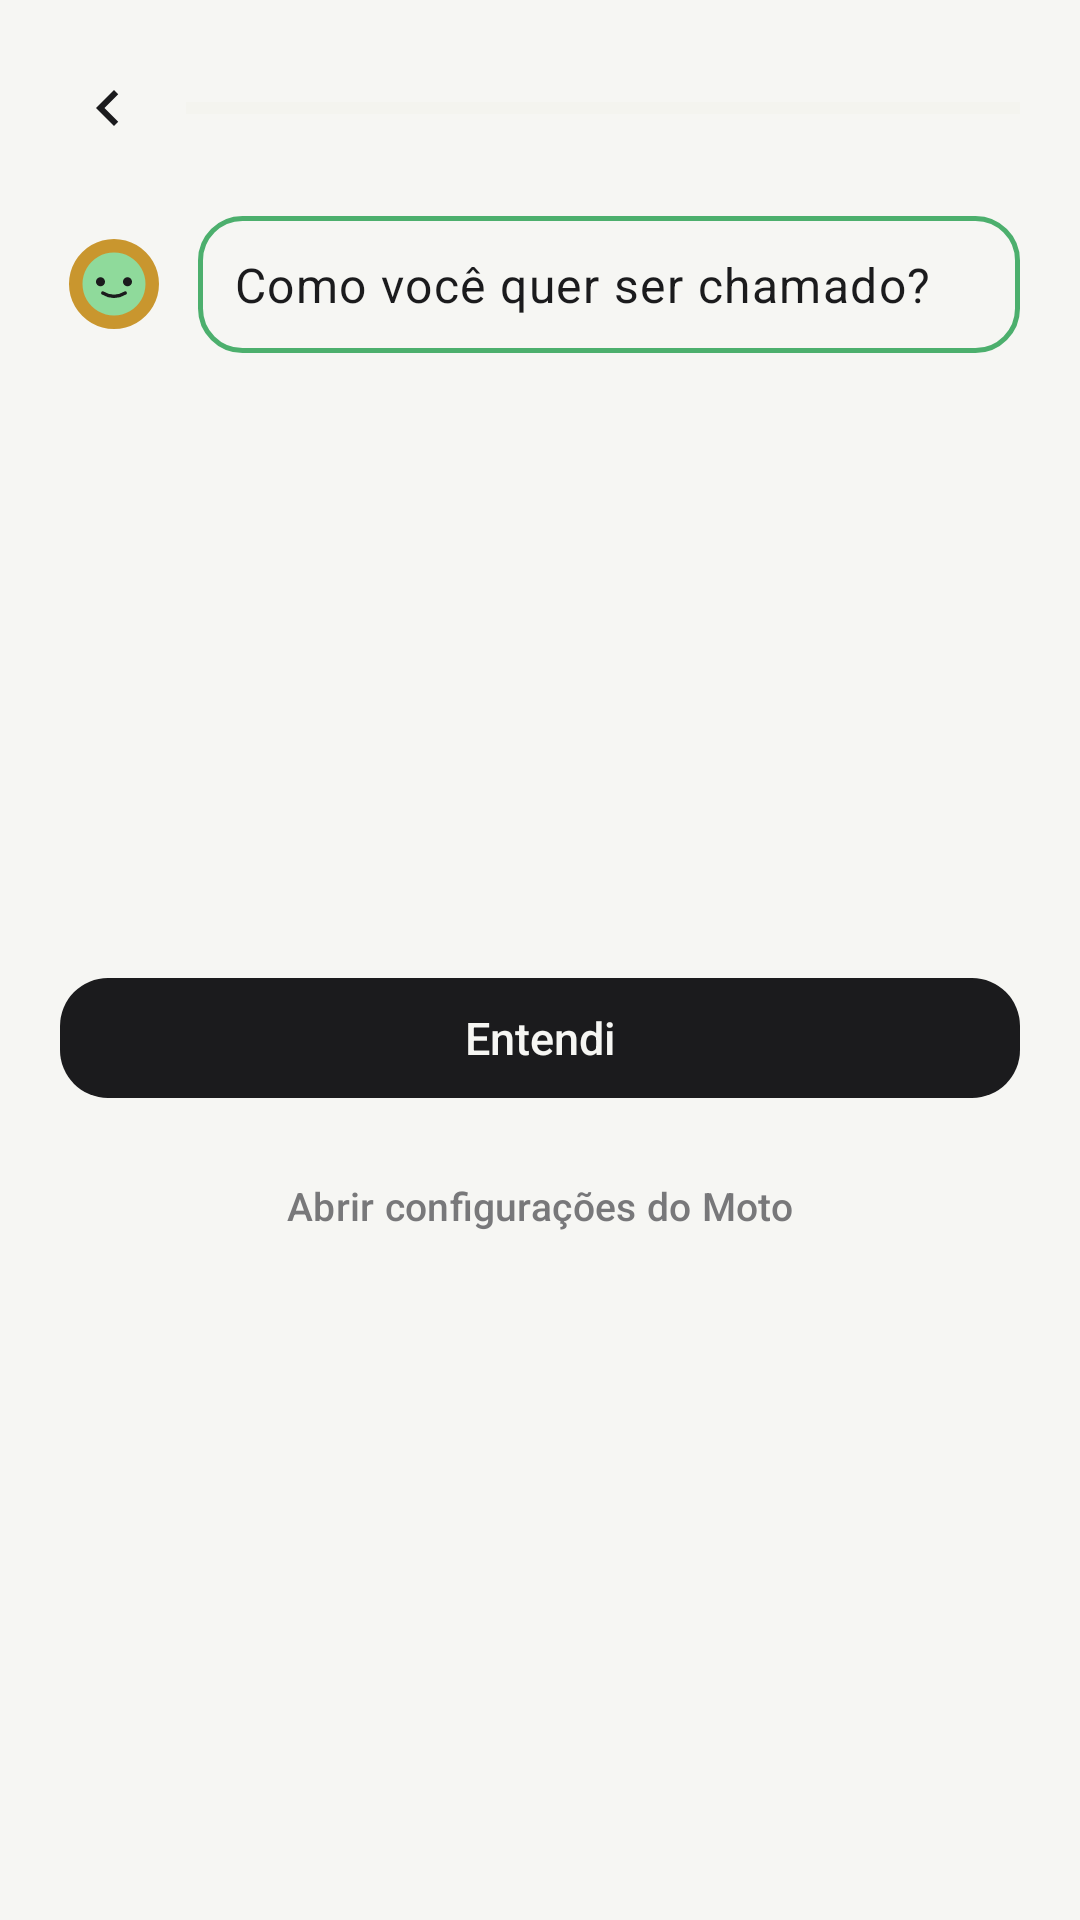

Locate icon controls on the screen. Image size 1080px×1920px, boxes as rect(x1, y1, x2, y2).
Mascote do Anota+: rect(69, 239, 159, 329)
Voltar: rect(96, 90, 118, 126)
